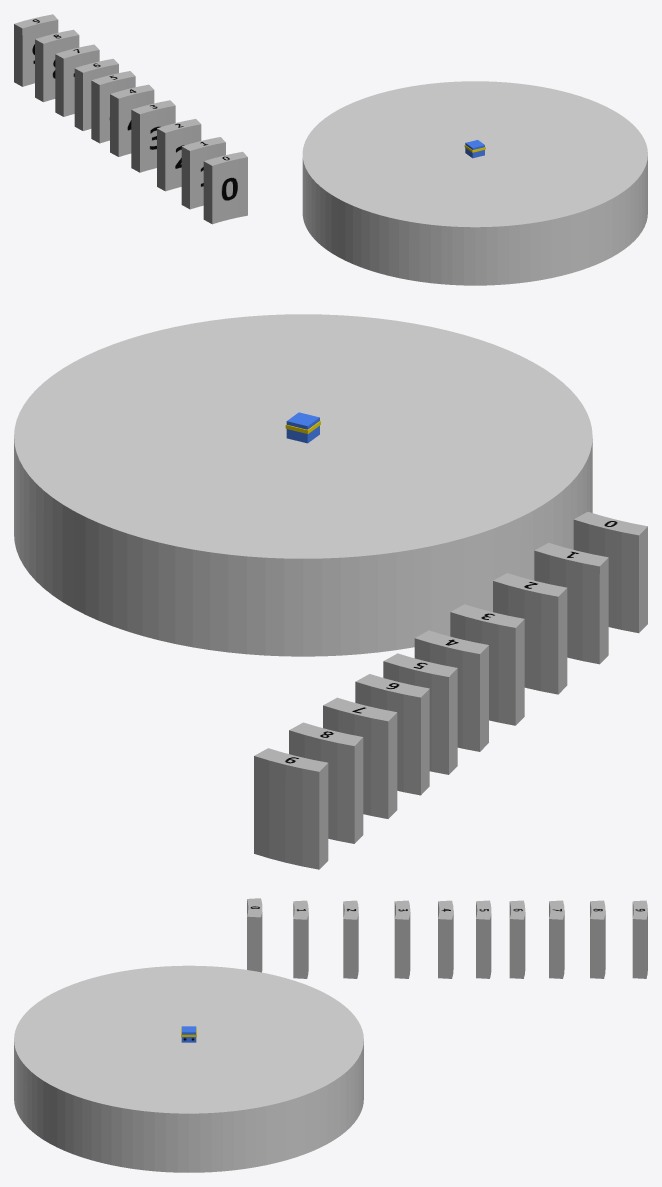
File: all.fbx
3 views of the same model, one above another, from view 1: azimuth 30°, elevation 25°; view 2: azimuth 150°, elevation 25°; view 3: azimuth 270°, elevation 25° (orthographic). The views are drawn at different scales.
Parts seen in each view (by area): view 1: Arena, 0, 3, 2, 1, 4, 9, 8, 7, 5, 6; view 2: Arena, 9, 2, 1, 0, 3, 8, 7, 6, 4, 5, Agent; view 3: Arena, 3, 6, 9, 2, 1, 8, 4, 7, 5, 0.
Boxes of the visible parts, x1,y1,x2,y2 form: Arena: (302, 81, 647, 285); 0: (203, 151, 247, 224); 3: (131, 100, 175, 172); 2: (157, 119, 201, 191); 1: (181, 137, 225, 209); 4: (110, 84, 154, 156); 9: (14, 14, 58, 86); 8: (35, 29, 79, 102); 7: (55, 44, 99, 116); 5: (91, 71, 135, 143); 6: (74, 58, 118, 130); Arena: (14, 314, 592, 656); 9: (254, 748, 328, 869); 2: (493, 573, 567, 694); 1: (534, 542, 608, 664); 0: (573, 512, 647, 633); 3: (450, 604, 524, 725); 8: (289, 722, 363, 843); 7: (323, 697, 397, 818); 6: (355, 674, 429, 795); 4: (414, 630, 488, 751); 5: (383, 653, 457, 774); Agent: (285, 412, 320, 443); Arena: (14, 965, 363, 1172); 3: (394, 900, 410, 978); 6: (509, 900, 525, 978); 9: (632, 900, 647, 978); 2: (343, 900, 358, 978); 1: (293, 900, 308, 978); 8: (590, 900, 605, 978); 4: (438, 900, 453, 978); 7: (549, 900, 564, 978); 5: (476, 900, 491, 978); 0: (247, 898, 262, 972).
Size of the model in its own units: 61.67 by 12.68 by 86.68.
Materials: 4 (2 with a texture image).
